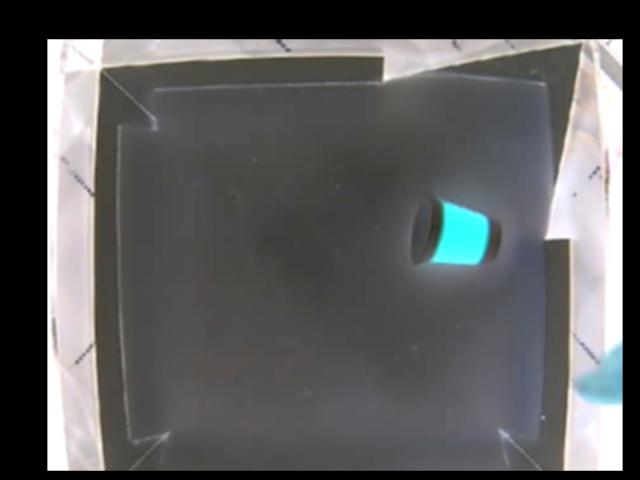Cup: (411, 195, 500, 269)
